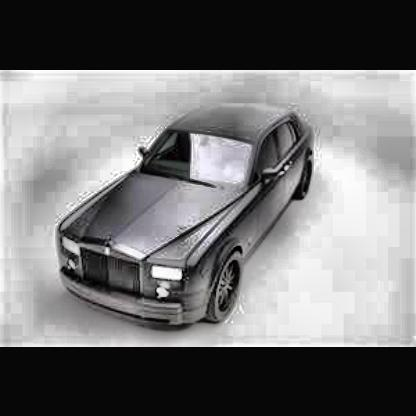Rolls-Royce Phantom Sedan 2012: (59, 109, 314, 332)
